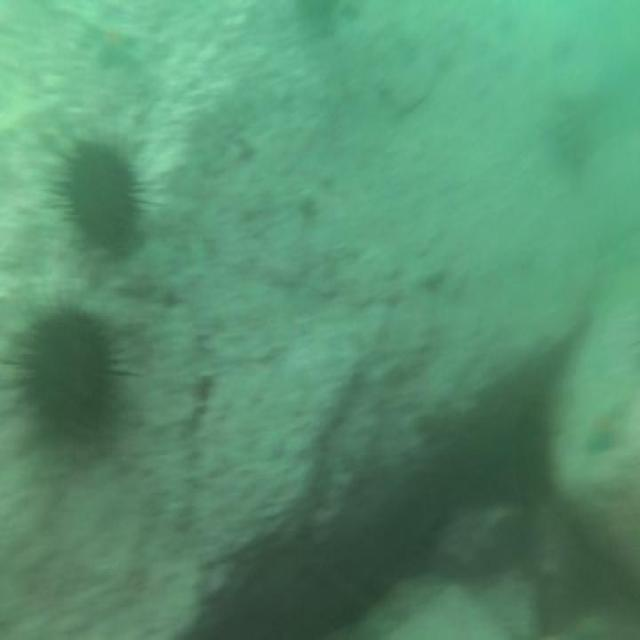echinus: (0, 291, 134, 466), (47, 128, 148, 277)
starfish: (581, 392, 634, 461)
